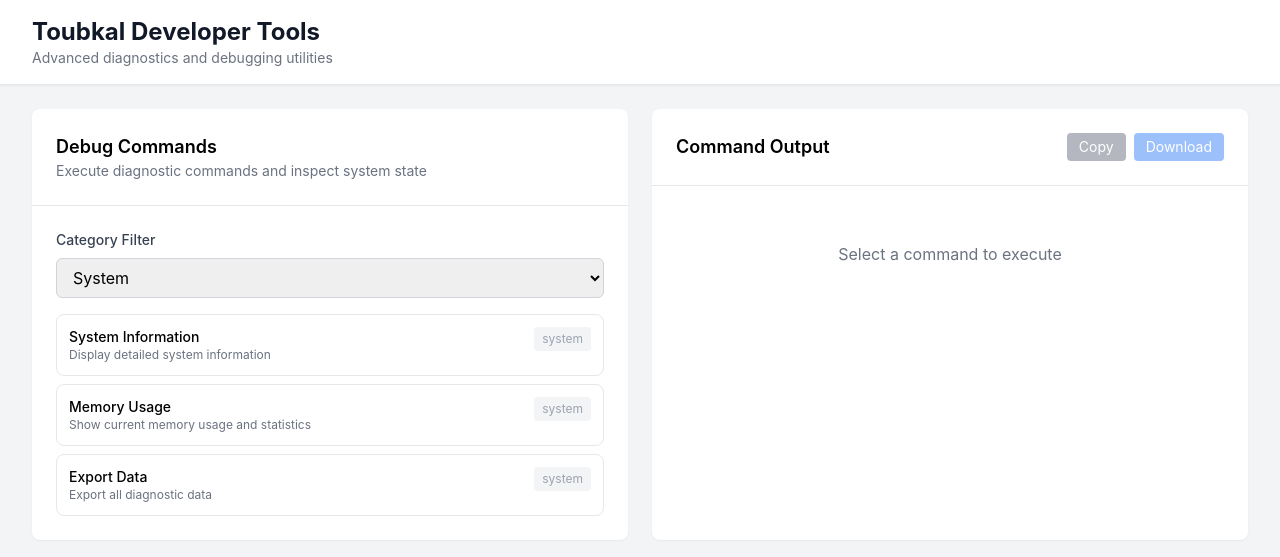
Scenario: DeveloperTools › should execute memory usage command
Click the heading "Memory Usage": point(120, 406) [69,398,171,415]
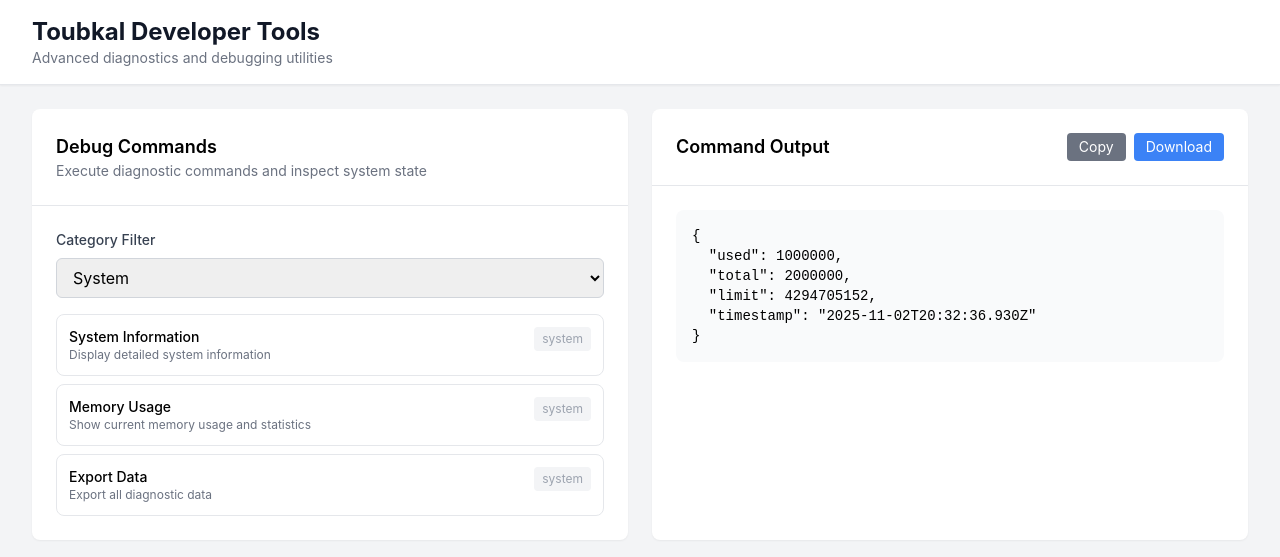
Expected: the text "used" is shown, [692,228,1036,344]
